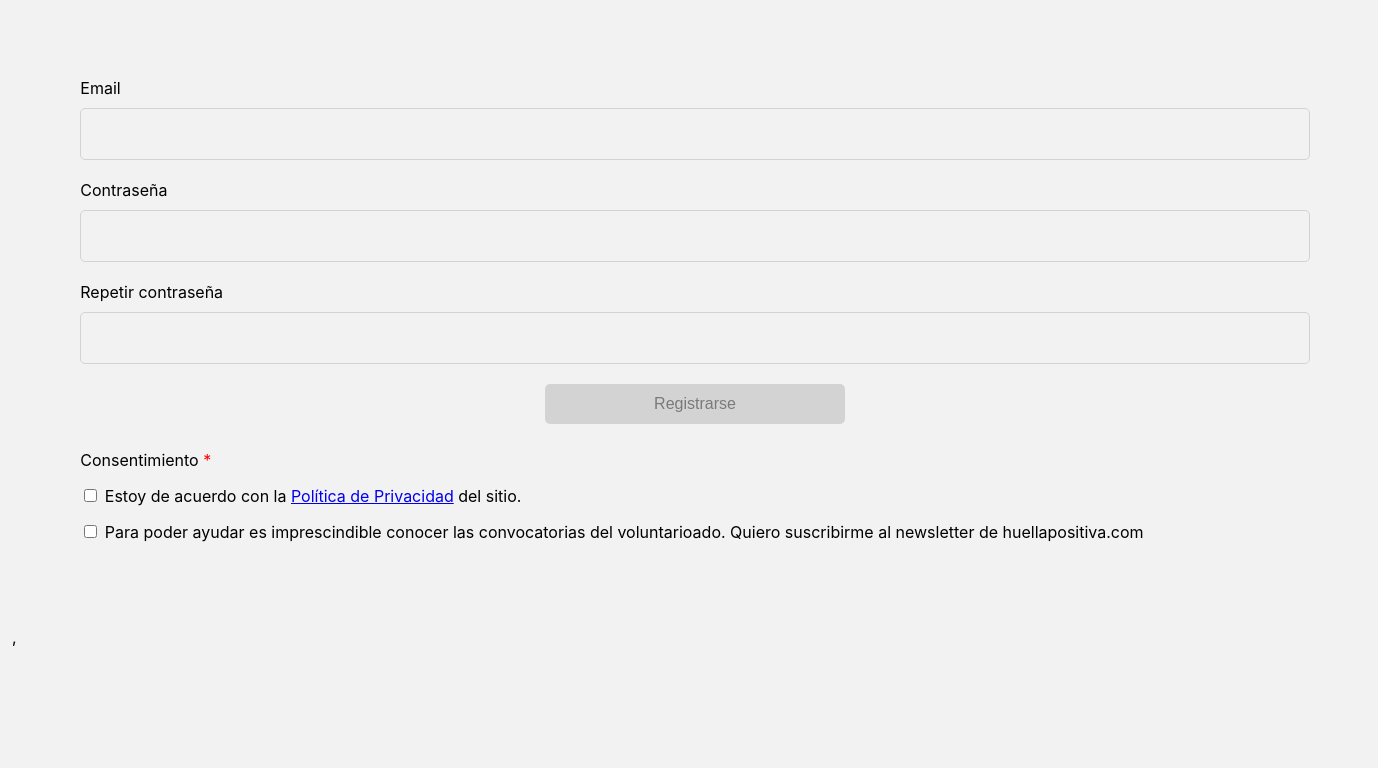
FormRegisterVolunteer should › display a message when email are not allowed or is wrong
The width and height of the screenshot is (1378, 768).
Type "wrongmail@email." into the field named "input-form" at (695, 134), box [80,108,1310,160]
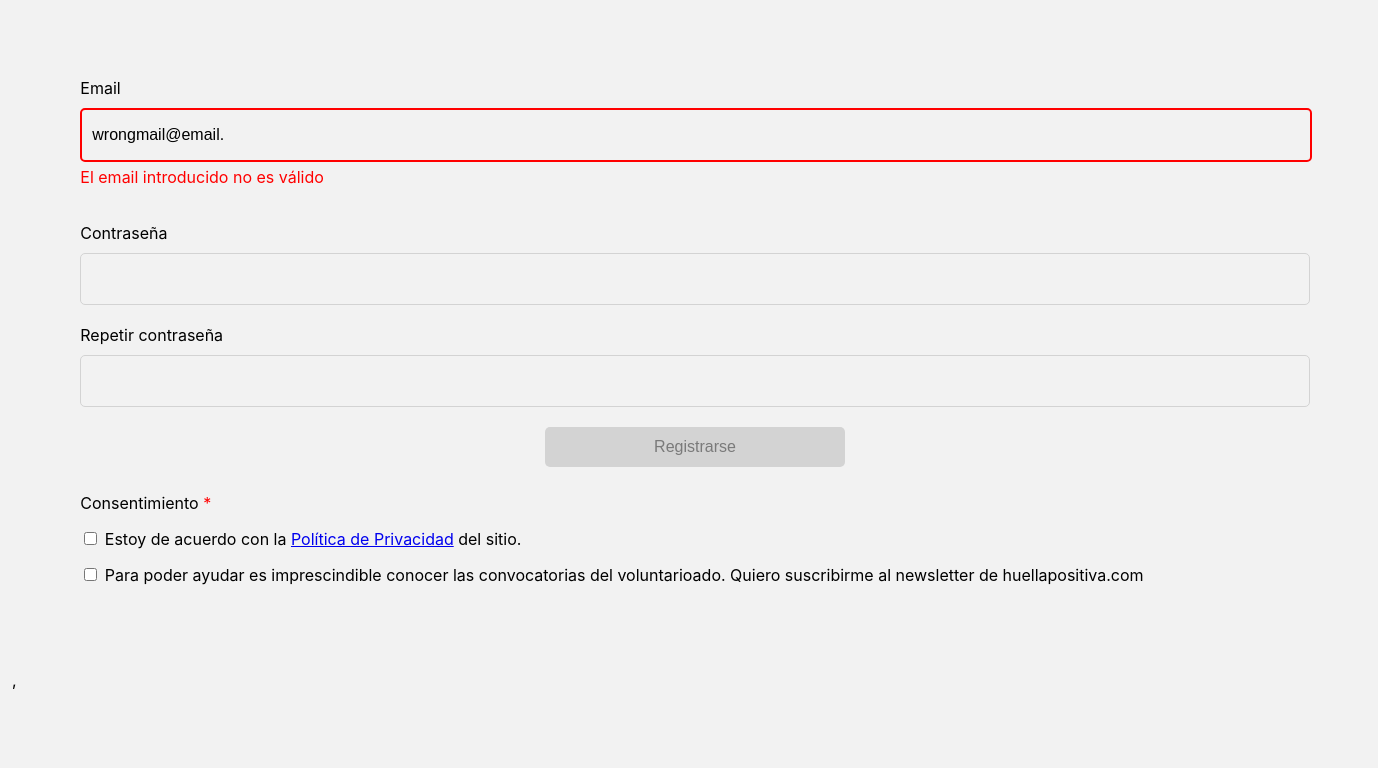
Expected: the text "El email introducido no es válido" is shown, [80,167,324,187]
